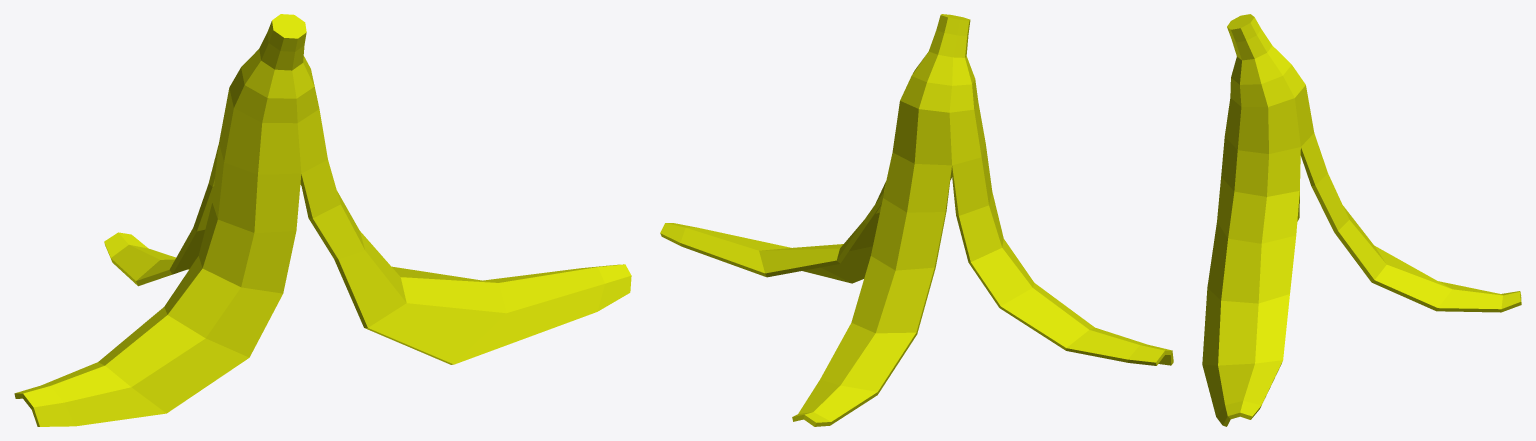
Rendered from TEBanana.fbx.
3 renders of one model, left to right at view 1: azimuth 30°, elevation 25°; view 2: azimuth 150°, elevation 25°; view 3: azimuth 270°, elevation 25°, orthographic. The views are drawn at different scales.
Visible parts, largest first — view 1: Cylinder.002; view 2: Cylinder.002; view 3: Cylinder.002.
Boxes of the visible parts, x1,y1,x2,y2 form: Cylinder.002: [14, 14, 631, 426]; Cylinder.002: [660, 14, 1173, 426]; Cylinder.002: [1202, 14, 1521, 426].
Bounding box in the file's own units: 119 × 69.82 × 68.81.
